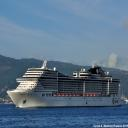cruises: (7, 61, 124, 110)
